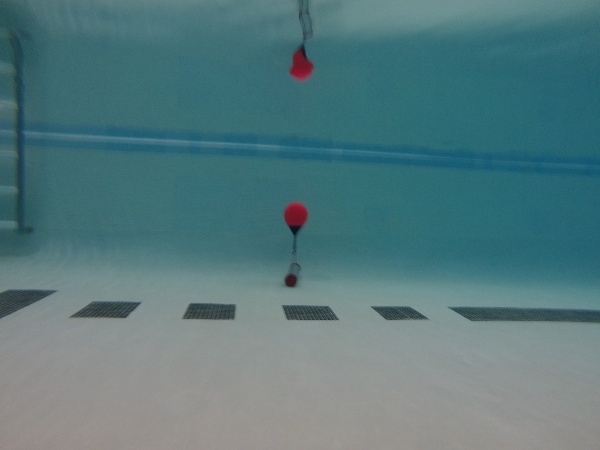buoy_red: (280, 199, 309, 235)
